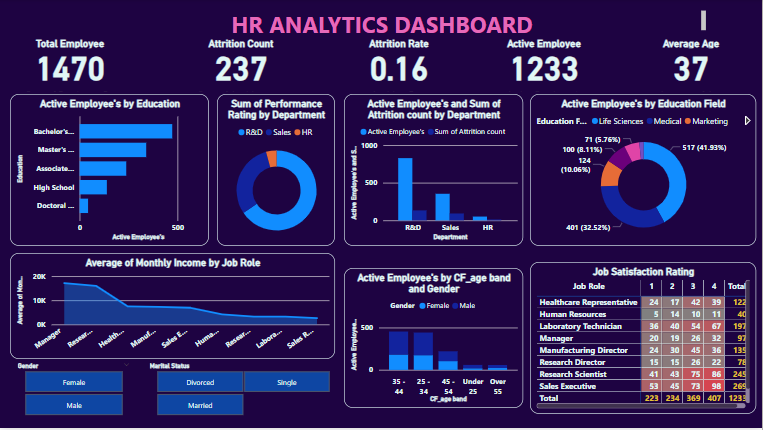

This screenshot's page, from the dashboard's own definition file:
{"tool":"powerbi","page":{"name":"Page 1","canvas":[1280,720],"ordinal":0},"visuals":[{"type":"card","title":"Total  Employee","fields":{"Values":["Sum(HR data.Employee Count)"]},"box":[35.3,63.8,164.6,95.7],"z":0,"group":"g1"},{"type":"clusteredColumnChart","fields":{"Category":["HR data.Department"],"Y":["HR data.Active Employee's","Sum(HR data.Attrition count)"]},"box":[577.8,159.6,300.7,255.3],"z":0},{"type":"card","title":"Active Employee","fields":{"Values":["HR data.Active Employee's"]},"box":[831.5,63.8,164.6,95.7],"z":1000,"group":"g1"},{"type":"donutChart","fields":{"Y":["HR data.Active Employee's"],"Category":["HR data.Education Field"]},"box":[890.3,159.6,379.6,255.3],"z":1000},{"type":"card","title":"Attrition Rate","fields":{"Values":["HR data.Attrition Rate"]},"box":[588,63.8,164.6,95.7],"z":2000,"group":"g1"},{"type":"columnChart","fields":{"Y":["HR data.Active Employee's"],"Category":["HR data.CF_age band"],"Series":["HR data.Gender"]},"box":[577.8,451.9,300.7,235.2],"z":2000},{"type":"card","title":"Attrition Count","fields":{"Values":["Sum(HR data.Attrition count)"]},"box":[322.5,63.8,164.6,95.7],"z":3000,"group":"g1"},{"type":"pivotTable","title":"Job Satisfaction Rating","fields":{"Rows":["HR data.Job Role"],"Columns":["HR data.Job Satisfaction"],"Values":["HR data.Active Employee's"]},"box":[890.3,441.8,379.6,255.3],"z":3000},{"type":"card","title":"Average Age","fields":{"Values":["Avg(HR data.Age)"]},"box":[1078.4,63.8,164.6,95.7],"z":4000,"group":"g1"},{"type":"donutChart","fields":{"Y":["Sum(HR data.Performance Rating)"],"Category":["HR data.Department"]},"box":[364.5,159.6,198.2,255.3],"z":4000},{"type":"clusteredBarChart","fields":{"Category":["HR data.Education"],"Y":["HR data.Active Employee's"]},"box":[16.8,159.6,334.3,255.3],"z":5000},{"type":"areaChart","fields":{"Category":["HR data.Job Role"],"Y":["Avg(HR data.Monthly Income)"]},"box":[16.8,426.7,545.9,178.1],"z":6000},{"type":"slicer","fields":{"Values":["HR data.Gender"]},"box":[16.8,604.7,213.3,100.8],"z":7000},{"type":"slicer","fields":{"Values":["HR data.Marital Status"]},"box":[238.5,604.7,339.3,100.8],"z":8000},{"type":"group","id":"g1","title":"Group 1","box":[35.3,63.8,1207.8,95.7],"z":9000},{"type":"textbox","box":[100.8,13.4,1090.2,50.4],"z":9001}]}

Visuals, with their boxes in screenshot pixels (x1, y1, x2, y2), scaled from the page's 1280x720 canvas onto the 763x430 screenshot:
"Total  Employee" card: box=[21, 38, 119, 95]
clusteredColumnChart - HR data.Department x HR data.Active Employee's: box=[344, 95, 524, 248]
"Active Employee" card: box=[496, 38, 594, 95]
donutChart - HR data.Active Employee's x HR data.Education Field: box=[531, 95, 757, 248]
"Attrition Rate" card: box=[351, 38, 449, 95]
columnChart - HR data.Active Employee's x HR data.CF_age band: box=[344, 270, 524, 410]
"Attrition Count" card: box=[192, 38, 290, 95]
"Job Satisfaction Rating" pivotTable: box=[531, 264, 757, 416]
"Average Age" card: box=[643, 38, 741, 95]
donutChart - Sum(HR data.Performance Rating) x HR data.Department: box=[217, 95, 335, 248]
clusteredBarChart - HR data.Education x HR data.Active Employee's: box=[10, 95, 209, 248]
areaChart - HR data.Job Role x Avg(HR data.Monthly Income): box=[10, 255, 335, 361]
slicer - HR data.Gender: box=[10, 361, 137, 421]
slicer - HR data.Marital Status: box=[142, 361, 344, 421]
"Group 1" group: box=[21, 38, 741, 95]
textbox: box=[60, 8, 710, 38]
